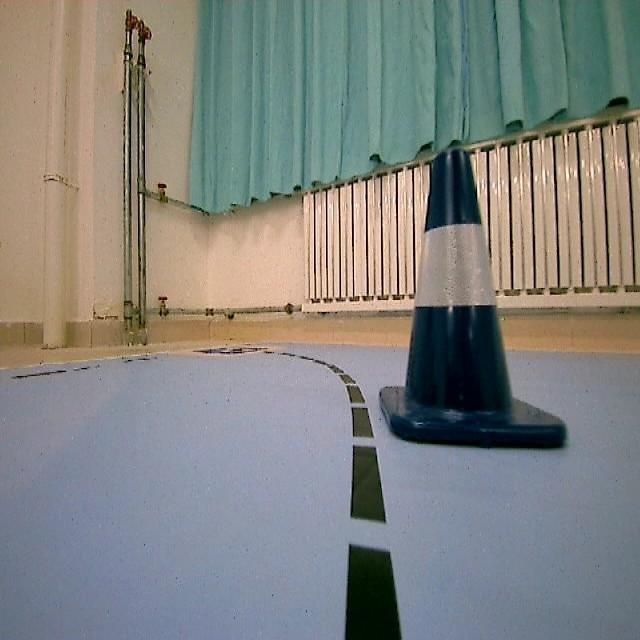obstacle: (384, 148, 564, 452)
